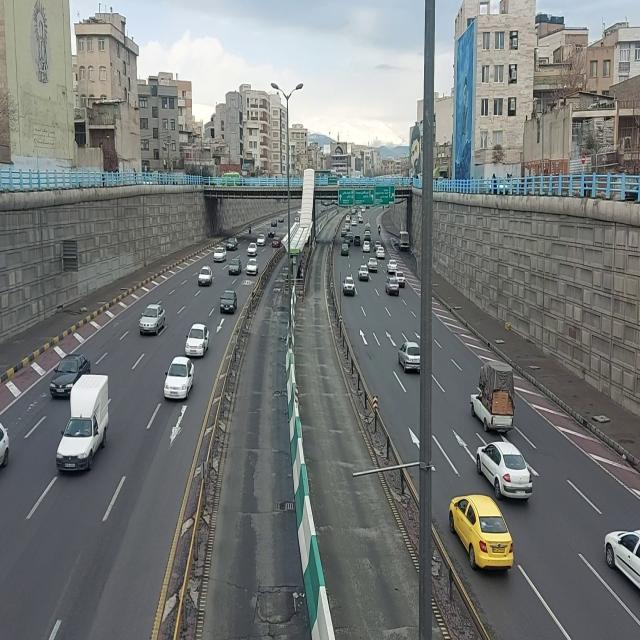Car: (448, 492, 516, 575), (475, 442, 537, 498), (602, 523, 640, 591), (163, 355, 195, 405), (50, 351, 74, 399), (139, 301, 169, 337), (185, 322, 211, 358), (397, 338, 421, 374), (220, 289, 238, 315), (199, 265, 214, 286), (386, 277, 400, 297), (342, 276, 355, 296), (228, 258, 242, 276), (246, 258, 258, 277), (213, 247, 227, 263), (358, 264, 370, 282), (396, 271, 406, 289), (387, 259, 398, 275), (226, 237, 238, 251), (367, 257, 377, 273), (247, 242, 258, 256), (272, 234, 281, 248), (376, 246, 386, 258), (257, 234, 267, 246), (340, 243, 348, 256), (363, 240, 371, 252), (354, 234, 362, 246), (364, 230, 372, 240), (268, 228, 276, 238), (271, 217, 278, 228), (278, 215, 285, 224), (341, 227, 347, 237), (351, 218, 357, 226), (358, 216, 364, 224), (346, 215, 351, 224)
Motorcycle: (378, 224, 382, 236)
Pickup: (58, 369, 114, 479), (471, 364, 517, 437)
